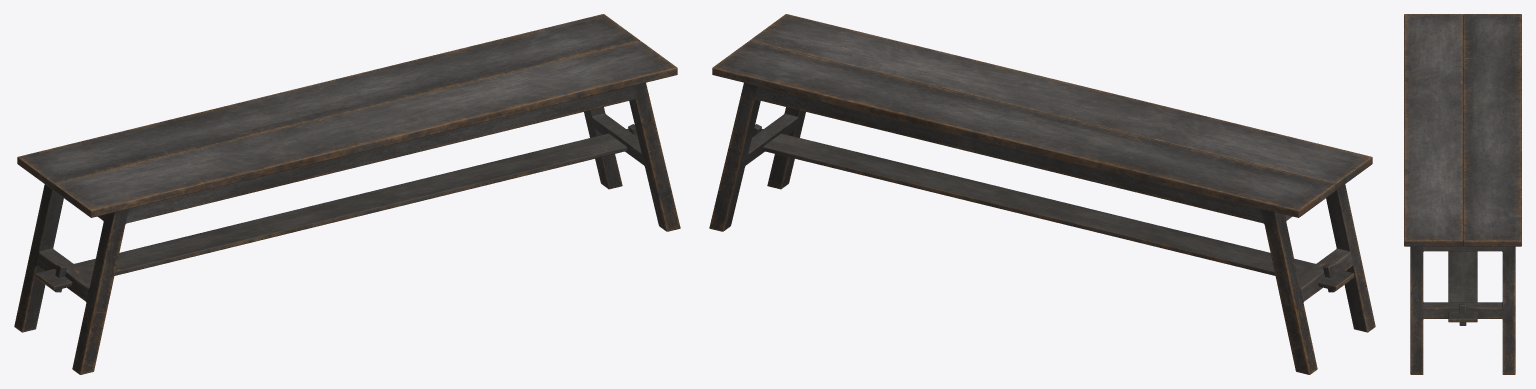
File: wooden_bench.glb
The picture shows the model from 3 angles, left to right: view 1: azimuth 30°, elevation 25°; view 2: azimuth 150°, elevation 25°; view 3: azimuth 270°, elevation 25°; orthographic projection. The views are drawn at different scales.
Parts seen in each view (by area): view 1: wooden_bench; view 2: wooden_bench; view 3: wooden_bench.
Boxes of the visible parts, x1,y1,x2,y2 form: wooden_bench: (14, 14, 680, 374); wooden_bench: (709, 14, 1375, 374); wooden_bench: (1404, 14, 1521, 374).
Bounding box in the file's own units: 170 × 44.42 × 36.02.
Materials: 1 (1 with a texture image).
